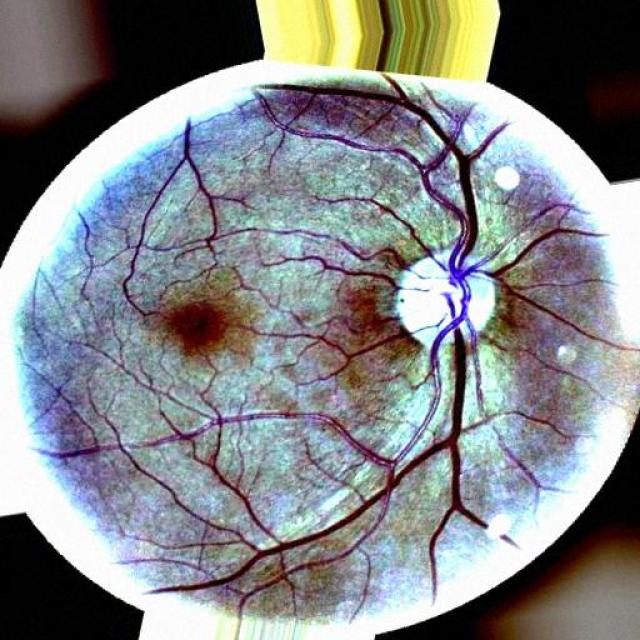Macula: (165, 301, 228, 355)
Optic Disk: (395, 245, 494, 349)
